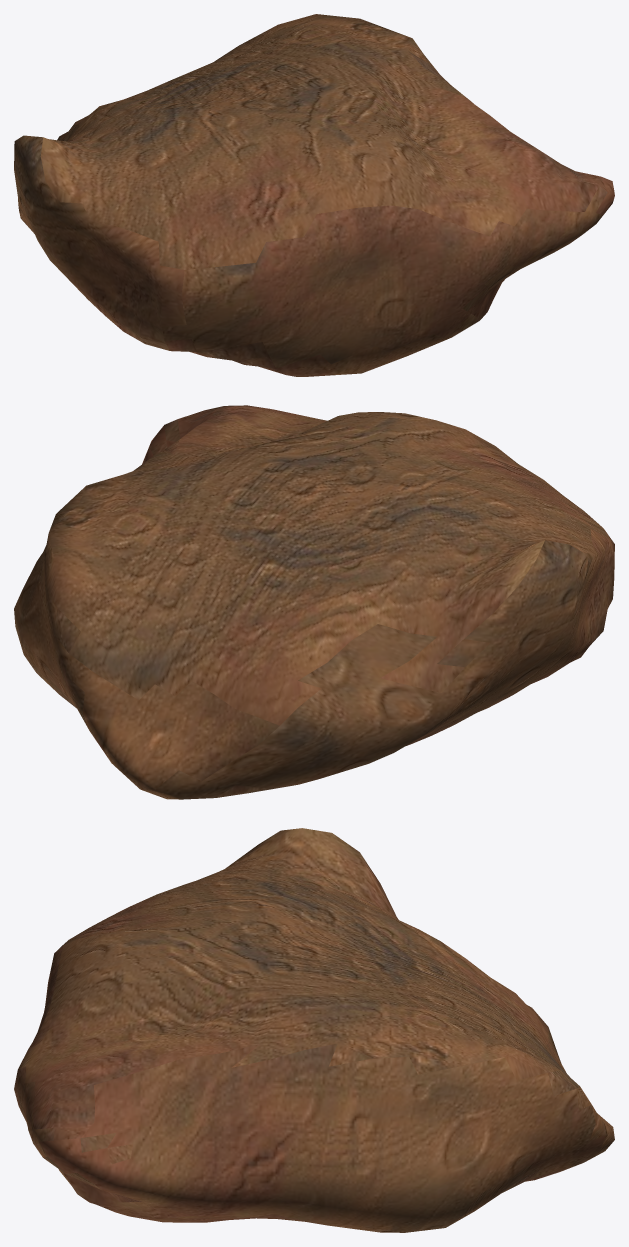
Rendered from MarsRock6.obj.
3 renders of one model, top to bottom at view 1: azimuth 30°, elevation 25°; view 2: azimuth 150°, elevation 25°; view 3: azimuth 270°, elevation 25°, orthographic. The views are drawn at different scales.
Parts seen in each view (by area): view 1: Rocks9; view 2: Rocks9; view 3: Rocks9.
Boxes of the visible parts, x1,y1,x2,y2 form: Rocks9: (14, 14, 614, 376); Rocks9: (14, 405, 614, 799); Rocks9: (14, 828, 614, 1232).
Size of the model in its own units: 0.727 by 0.3609 by 0.7284.
Materials: 1 (1 with a texture image).
